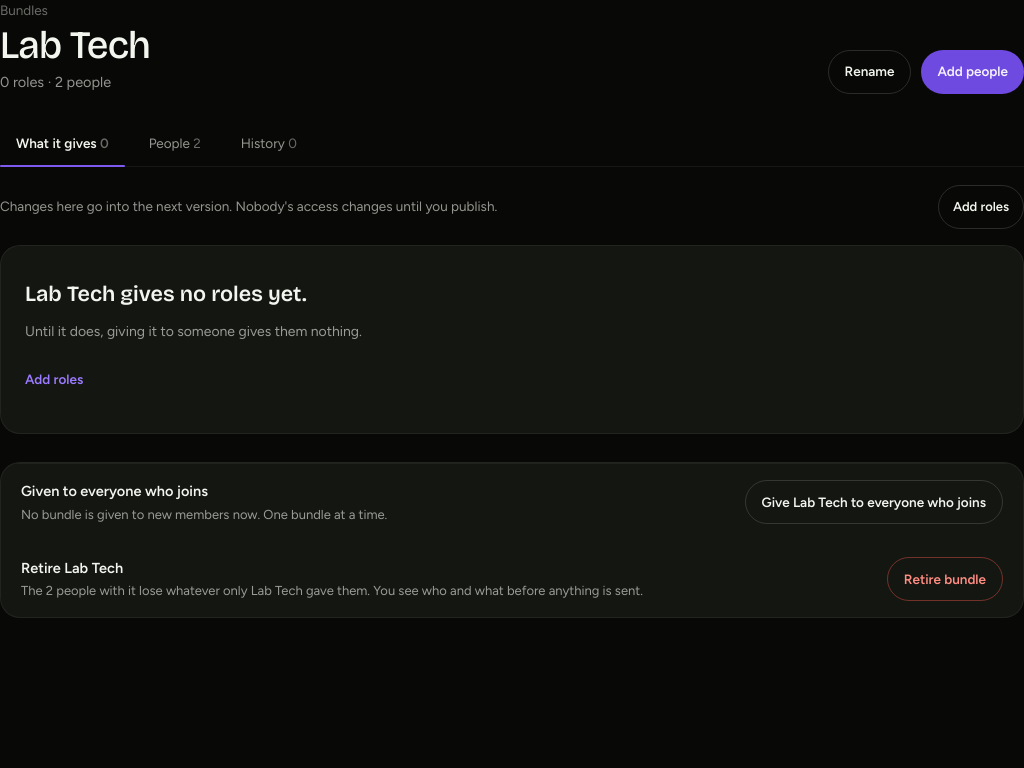
Test: retiring a bundle › says what Retire does: people lose what it gave, it can't be given again, its history stays
This screenshot has width=1024, height=768.
Click the button "Retire bundle" at (945, 579), box [887,557,1003,601]
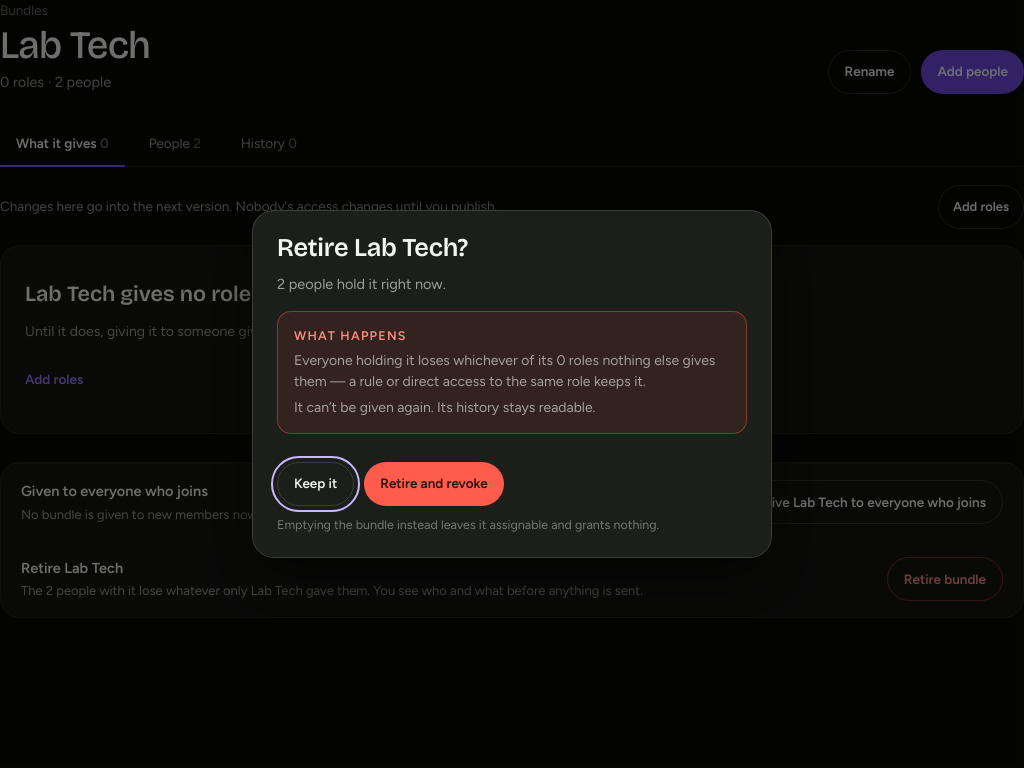
expect the list item "Everyone holding it loses" is shown: met, box [294,352,556,369]
expect the list item "It can’t be given again. Its history stays readable." is shown: met, box [294,399,596,416]
